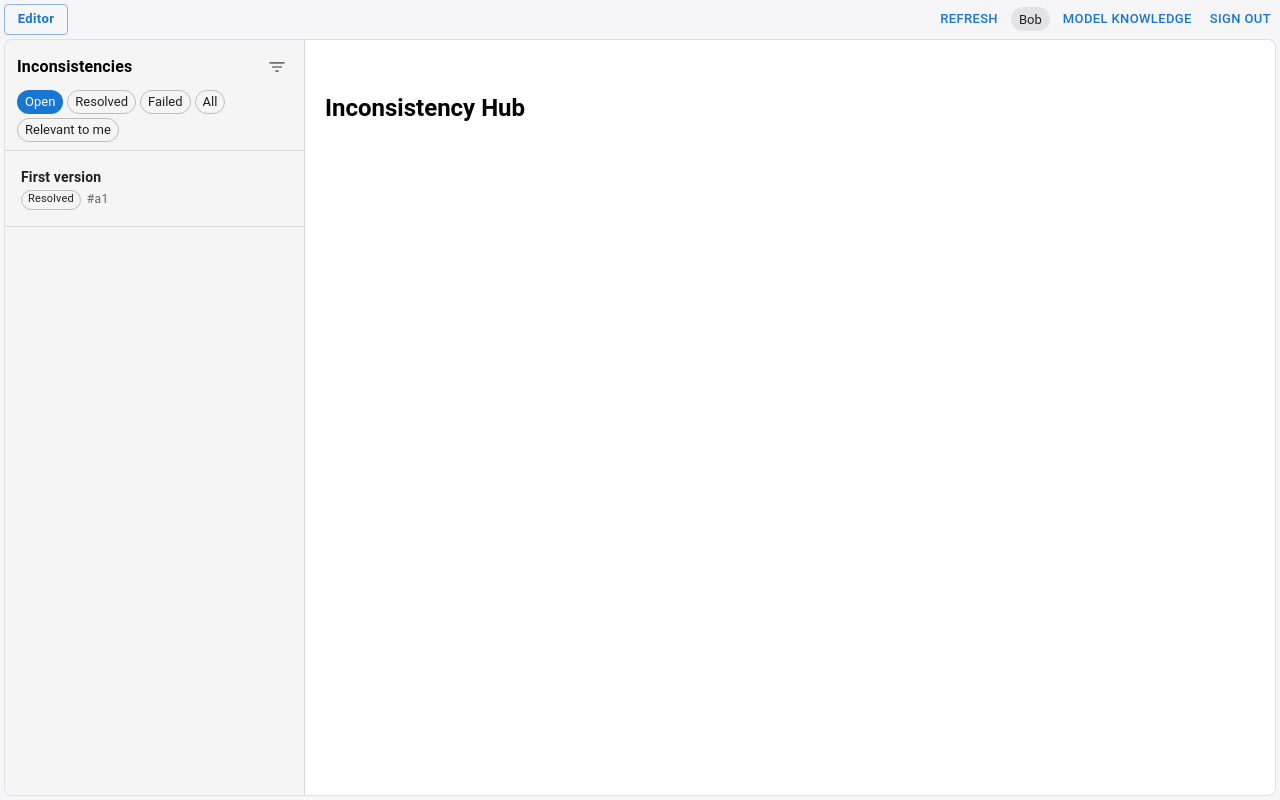
Test case: InconsistencyHubPage › reloads the list when refresh is clicked
Expected: the text "First version" is shown, [21,169,101,185]
Click the button "Refresh".
click(969, 19)  # box [935,4,1003,35]
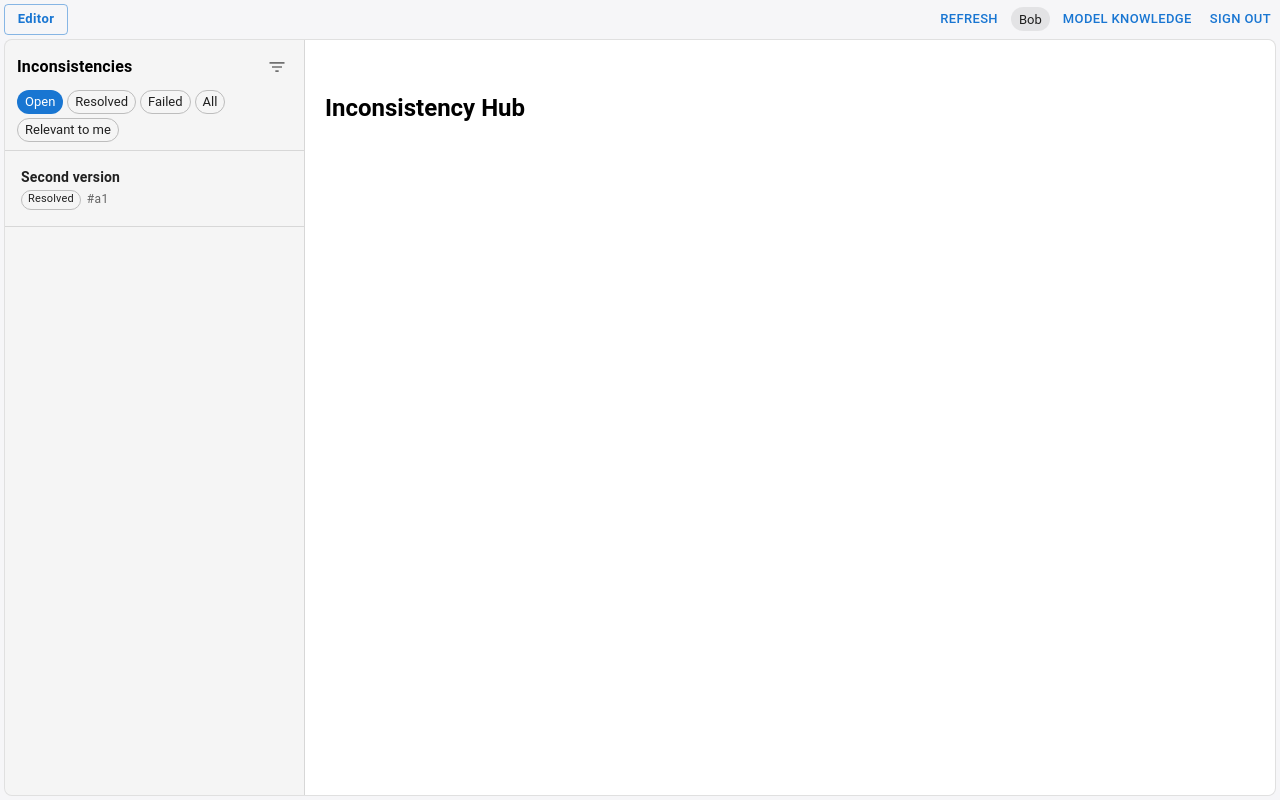
Result: the text "Second version" is shown at [21,169,120,185]
